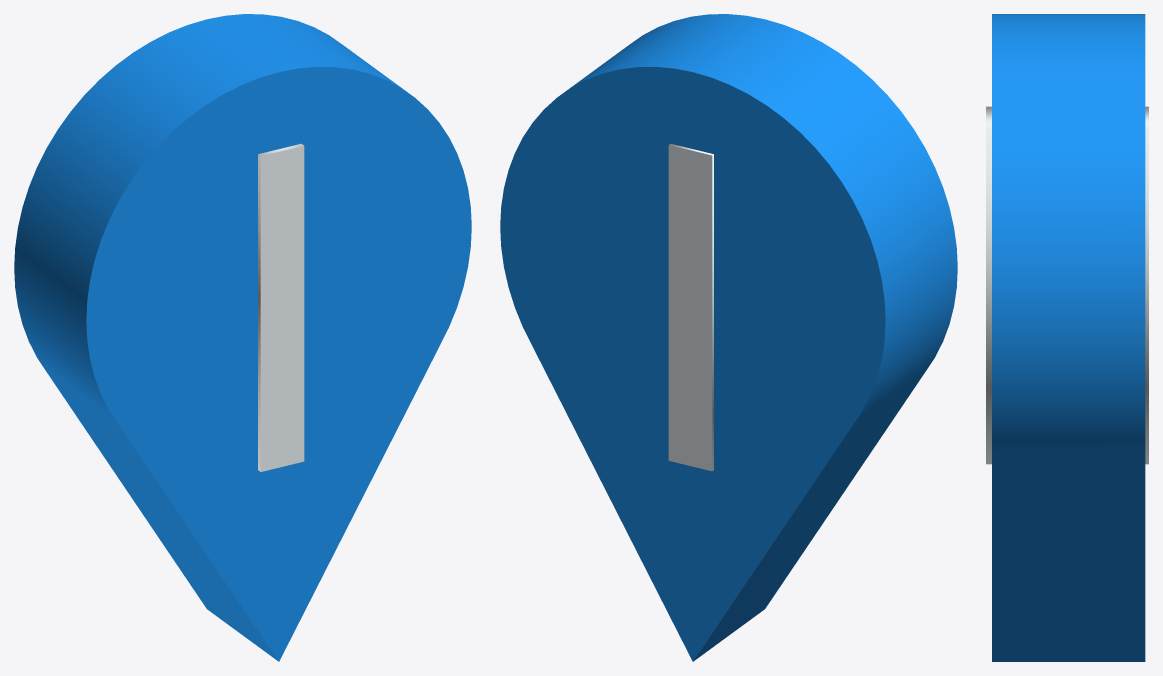
Rendered from seisan_pin.glb.
3 views of the same model, side by side, from view 1: azimuth 30°, elevation 25°; view 2: azimuth 150°, elevation 25°; view 3: azimuth 270°, elevation 25° (orthographic). The views are drawn at different scales.
Parts seen in each view (by area): view 1: 円.013, テキスト.033; view 2: 円.013, テキスト.033; view 3: 円.013, テキスト.033.
Part boxes in pixels (bbox=[...]): 円.013: bbox=[14, 14, 471, 661]; テキスト.033: bbox=[258, 143, 304, 471]; 円.013: bbox=[500, 14, 957, 661]; テキスト.033: bbox=[668, 143, 713, 471]; 円.013: bbox=[992, 14, 1145, 661]; テキスト.033: bbox=[986, 106, 1148, 464].
Size of the model in its own units: 2 by 2.92 by 0.689.
2 materials, 2 textured.
